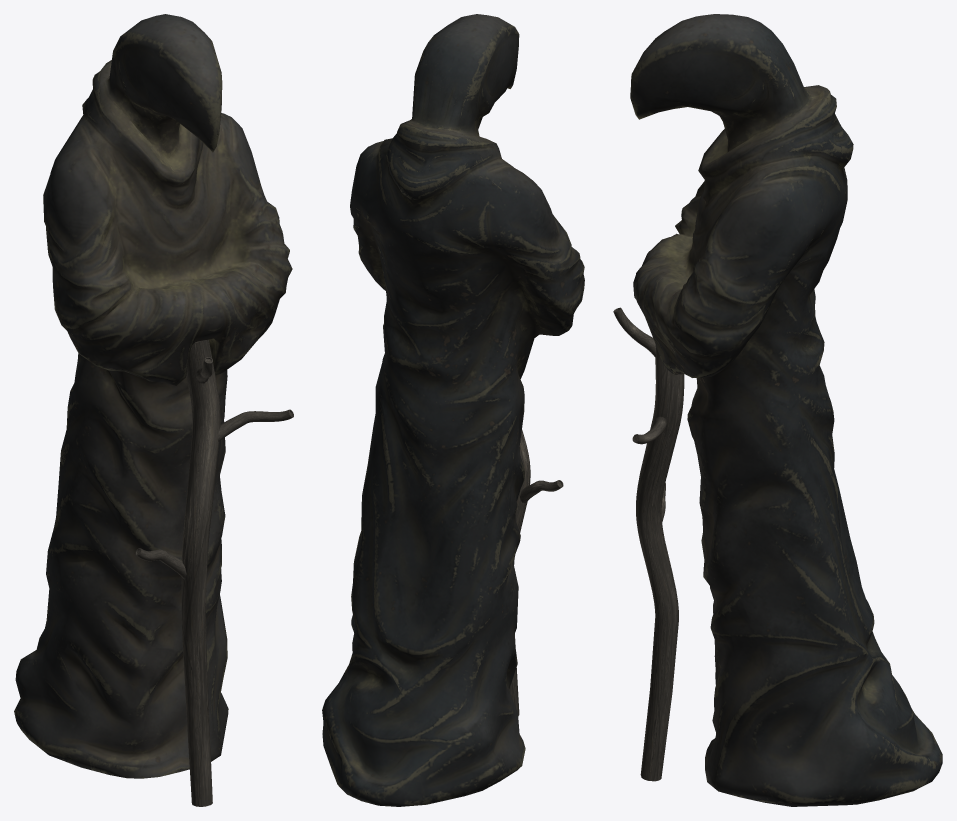
File: guardian_statue.glb
3 renders of one model, left to right at view 1: azimuth 30°, elevation 25°; view 2: azimuth 150°, elevation 25°; view 3: azimuth 270°, elevation 25°, orthographic. The views are drawn at different scales.
Visible parts, largest first — view 1: gaurdian, stok; view 2: gaurdian, stok; view 3: gaurdian, stok.
Boxes of the visible parts, left/top/right/bottom form: gaurdian: left=14, top=14, right=292, bottom=778; stok: left=135, top=339, right=293, bottom=806; gaurdian: left=322, top=14, right=584, bottom=806; stok: left=509, top=430, right=563, bottom=715; gaurdian: left=630, top=14, right=942, bottom=806; stok: left=613, top=307, right=684, bottom=781.
Bounding box in the file's own units: 76.29 × 251 × 98.25.
Materials: 2 (2 with a texture image).
